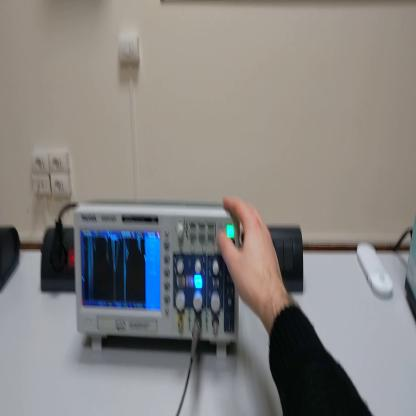hand: (218, 194, 285, 318)
oscilloscope: (77, 206, 242, 365)
socket: (38, 228, 76, 294), (2, 224, 21, 294)
welder station: (406, 214, 416, 322)
